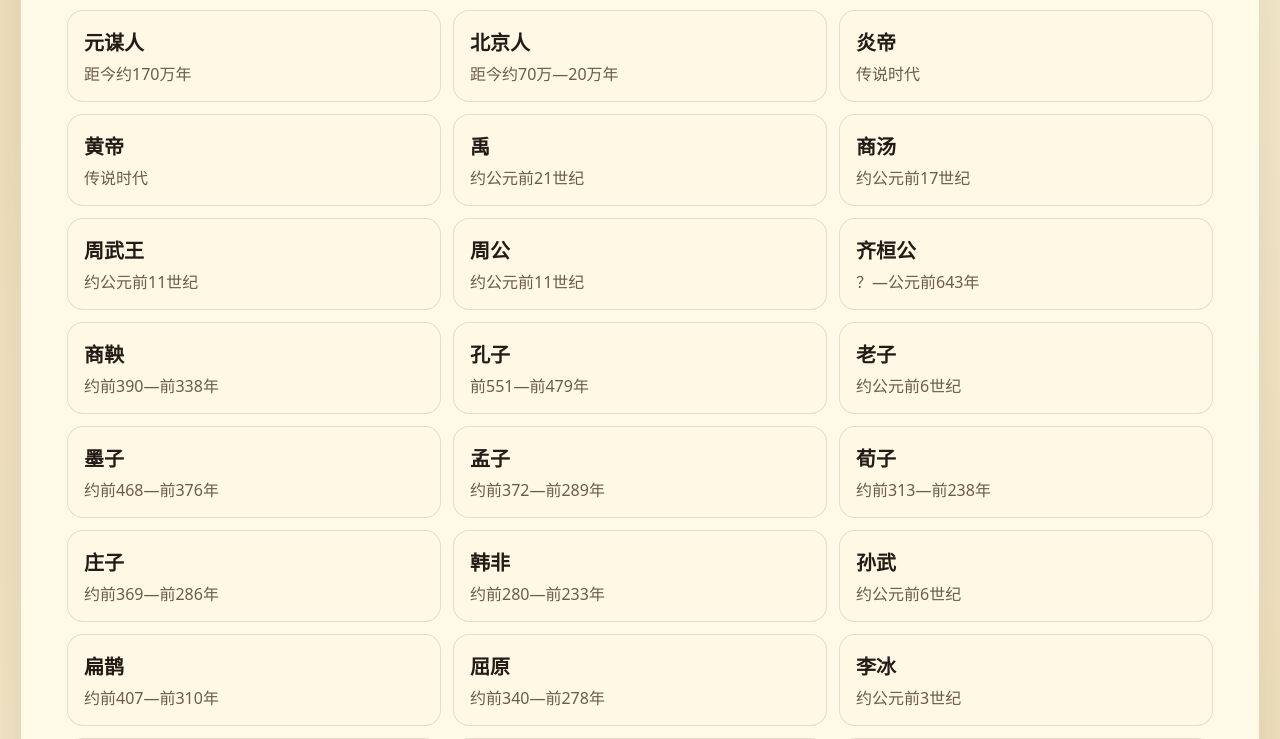
it: TextbookPage › grade-7-up 点击人物和事件卡片后弹层展示关联课程
(page scrolled)
expect the element with test id "textbook-person-card-g7u-confucius" does not show "百家争鸣": met
Click the button with test id "textbook-person-card-g7u-confucius".
click(490, 355)  # box [453,322,827,414]
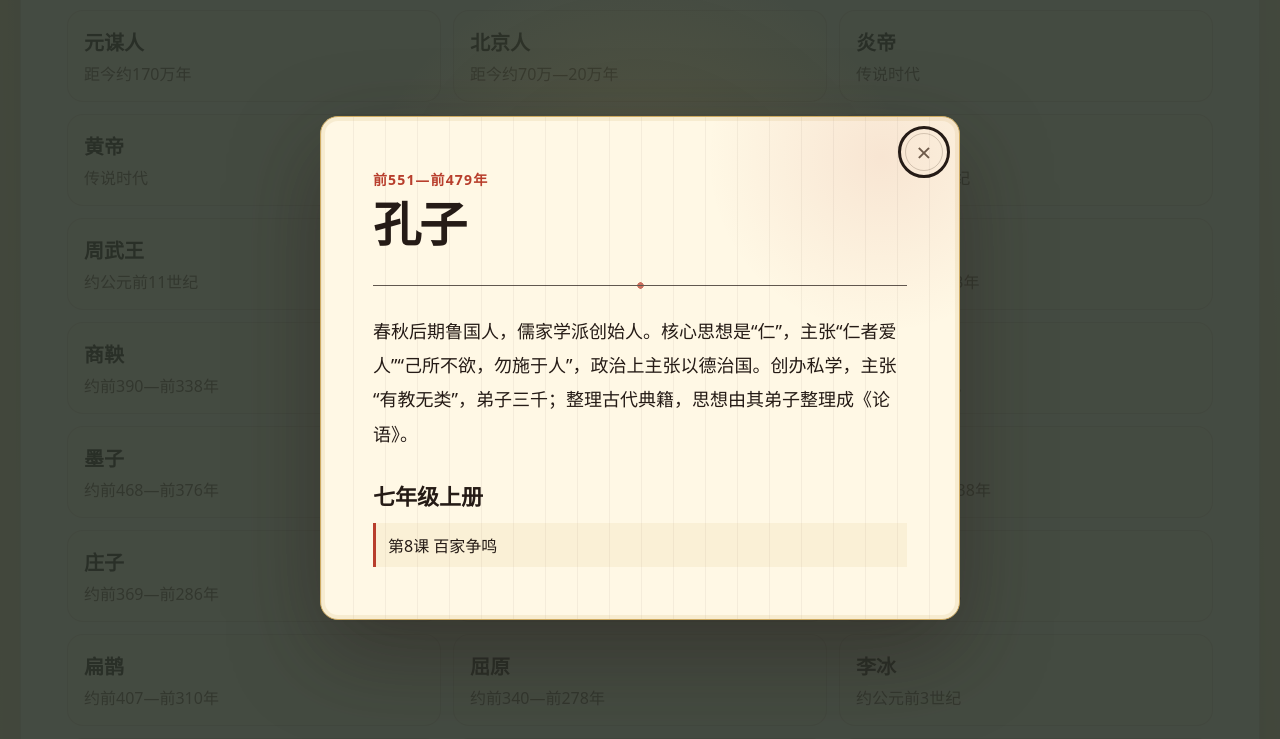
expect the dialog with test id "textbook-person-detail" shows "孔子": met, box [373,199,465,252]
expect the dialog with test id "textbook-person-detail" shows "百家争鸣": met, box [373,523,907,567]
Click the button with test id "close-person-detail".
click(924, 152)  # box [905,133,943,171]
(page scrolled)
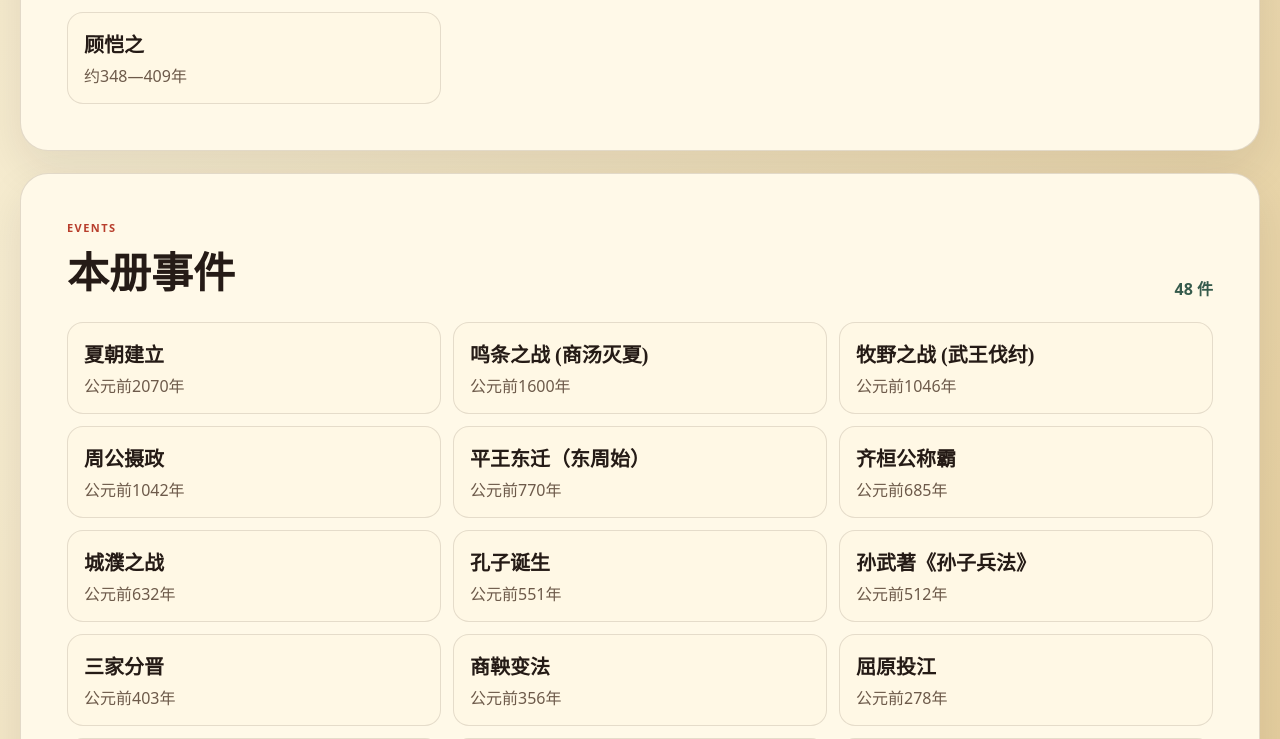
Click the button "夏朝建立 公元前2070年".
click(124, 355)  # box [67,322,441,414]
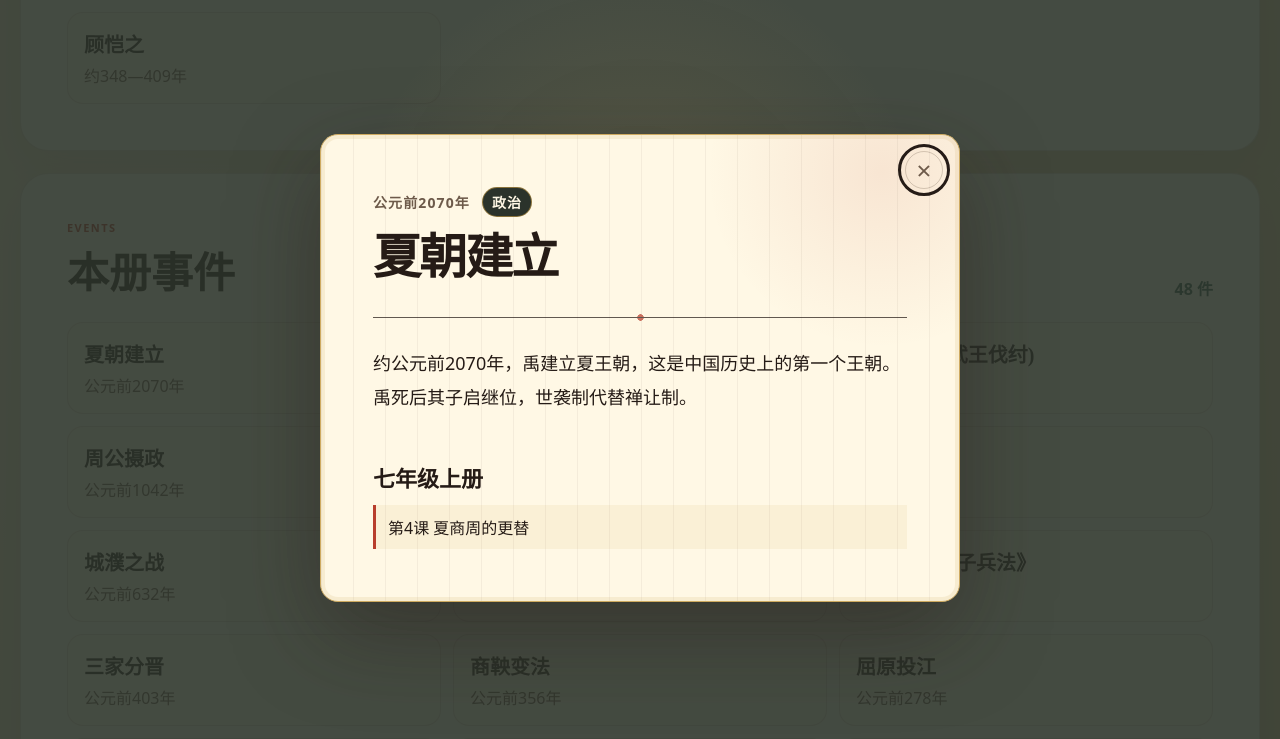
expect the dialog with test id "event-detail-overlay" shows "夏朝建立": met, box [373,231,557,284]
expect the dialog with test id "event-detail-overlay" shows "夏商周的更替": met, box [373,505,907,549]
